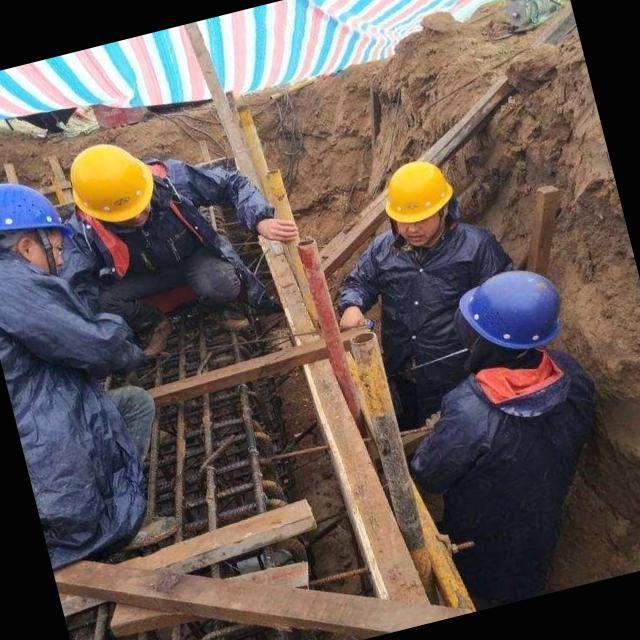helmet: (442, 253, 575, 369), (51, 134, 170, 240), (373, 148, 468, 232), (0, 162, 76, 262)
no-vest: (364, 228, 476, 372)
